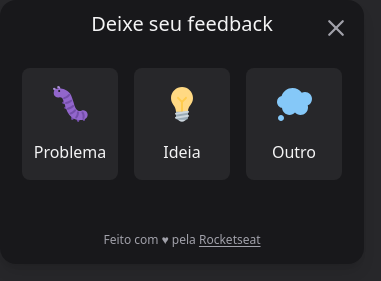
Test: WidgetForm main › should show the sendFeedback step while there is a feedback selected
Click the button "Problema" at x=70, y=124, box top-left (22, 68), bottom-right (118, 180)
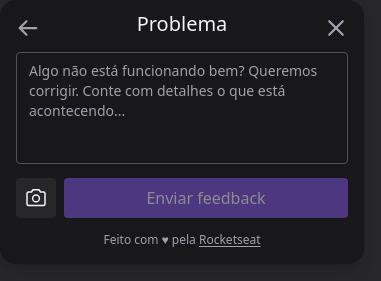
Expected: the text box is shown, top-left (16, 52), bottom-right (348, 164)
Expected: the button "Enviar feedback" is shown, top-left (64, 178), bottom-right (348, 218)
